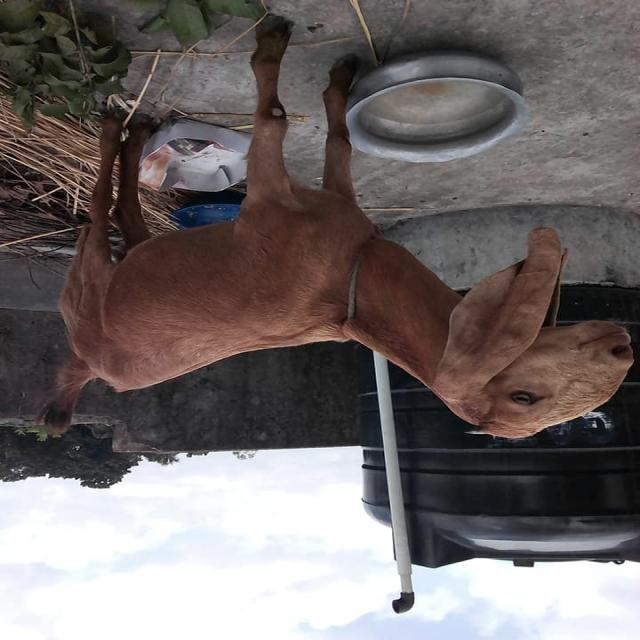Goat: (37, 21, 636, 442)
